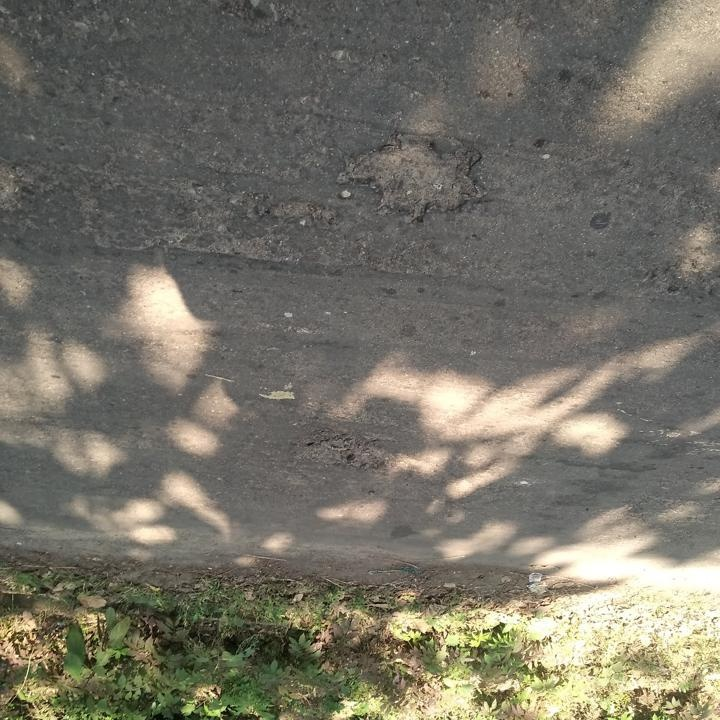pothole: (343, 130, 491, 225), (291, 428, 391, 477)
